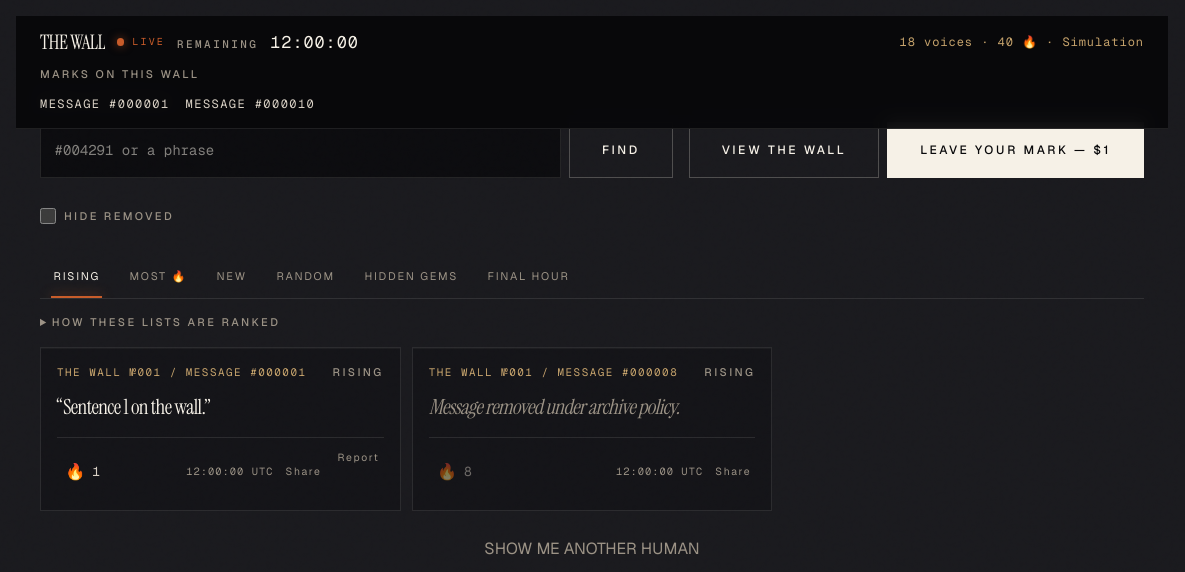
it: live wall › hides removed sentences when filtered
expect the text "Message removed under archive policy." is shown: met, box [429,393,679,420]
Click the checkbox labelled "Hide removed". click: (48, 216)
box: [40,208,56,224]
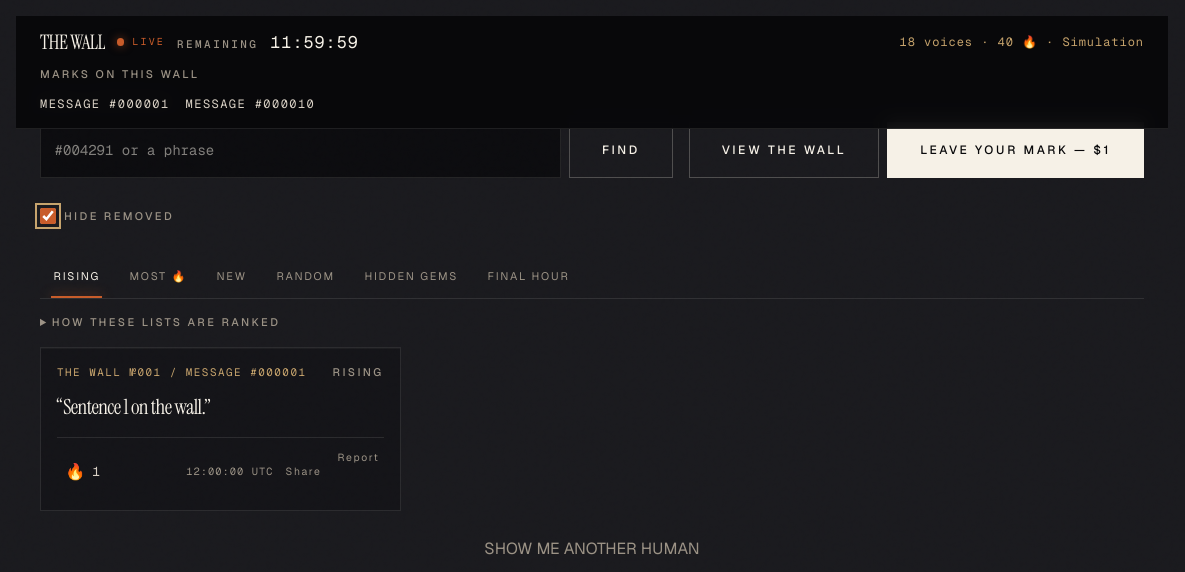
expect the text "“Sentence 1 on the wall.”" is shown: met, box [57,393,210,420]
expect the text "Message removed under archive policy" is gone: met
